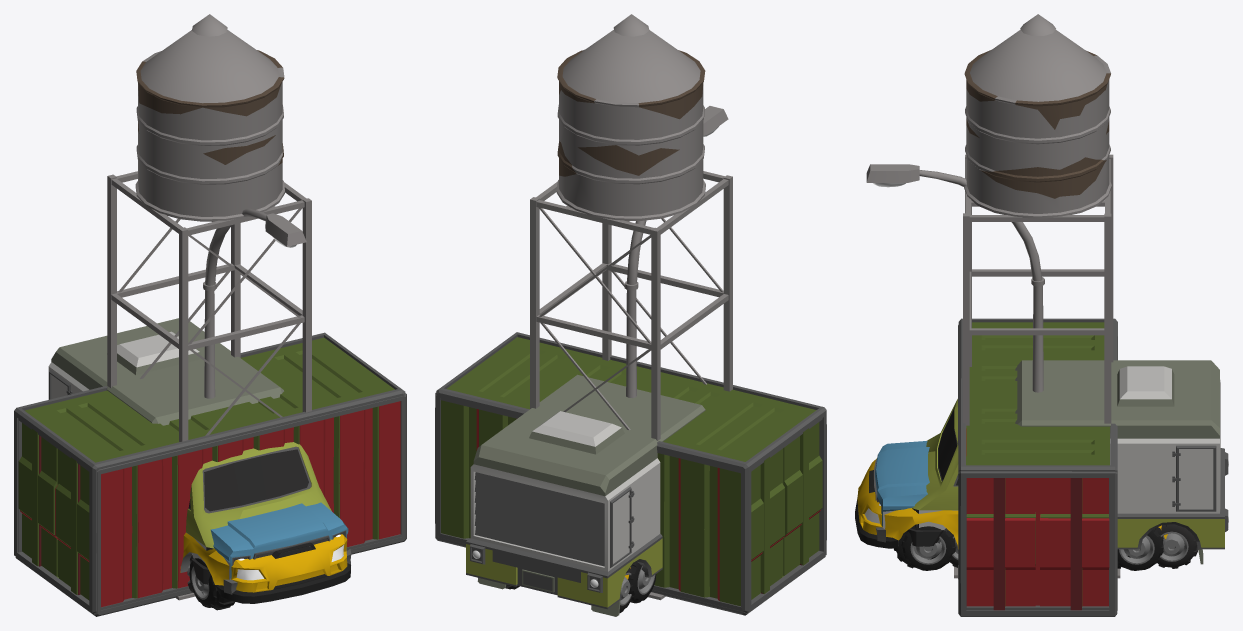
Rendered from props.glb.
The picture shows the model from 3 angles, left to right: view 1: azimuth 30°, elevation 25°; view 2: azimuth 150°, elevation 25°; view 3: azimuth 270°, elevation 25°; orthographic projection.
Visible parts, largest first — view 1: WaterTower, Container_Green, Container_Red, Truck, Sports, Pickup, StreetLights, FrontWheel_R; view 2: Container_Green, WaterTower, Truck, Container_Red, StreetLights, BackWheels; view 3: WaterTower, Truck, Container_Red, Container_Green, Pickup, StreetLights, Sports, BackWheels (×2), FrontWheel_L.
Part boxes in pixels (x1,y1,x2,y2): WaterTower: (107, 14, 311, 600); Container_Green: (14, 332, 405, 613); Container_Red: (15, 393, 406, 616); Truck: (48, 318, 331, 584); Sports: (180, 533, 350, 603); Pickup: (210, 502, 351, 594); StreetLights: (203, 208, 306, 398); FrontWheel_R: (189, 558, 217, 607); Container_Green: (436, 332, 826, 612); WaterTower: (530, 14, 732, 600); Truck: (466, 374, 705, 616); Container_Red: (435, 393, 825, 615); StreetLights: (624, 106, 728, 398); BackWheels: (628, 562, 656, 603); WaterTower: (954, 14, 1120, 578); Truck: (906, 360, 1228, 564); Container_Red: (958, 325, 1117, 616); Container_Green: (958, 318, 1117, 610); Pickup: (873, 441, 929, 542); StreetLights: (866, 164, 1044, 392); Sports: (855, 458, 1167, 548); BackWheels (×2): (1117, 524, 1197, 570); FrontWheel_L: (901, 524, 955, 570).
Size of the model in its own units: 5.73 by 9.45 by 6.
4 materials, 3 textured.
